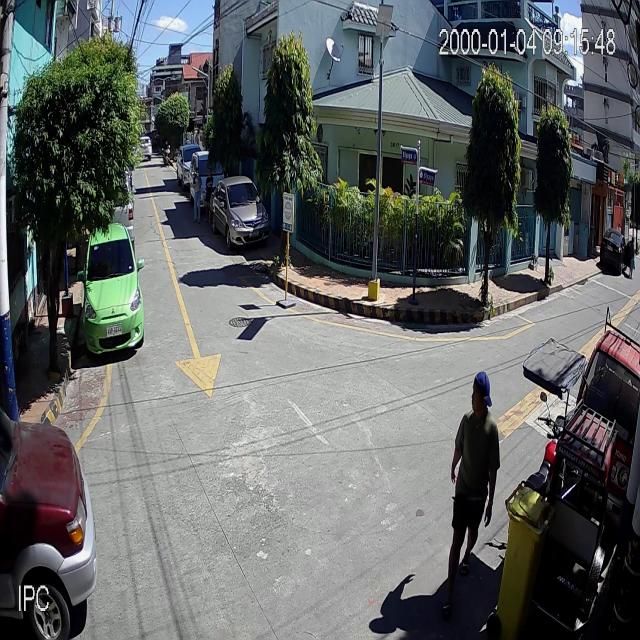walking: (442, 373, 499, 615)
